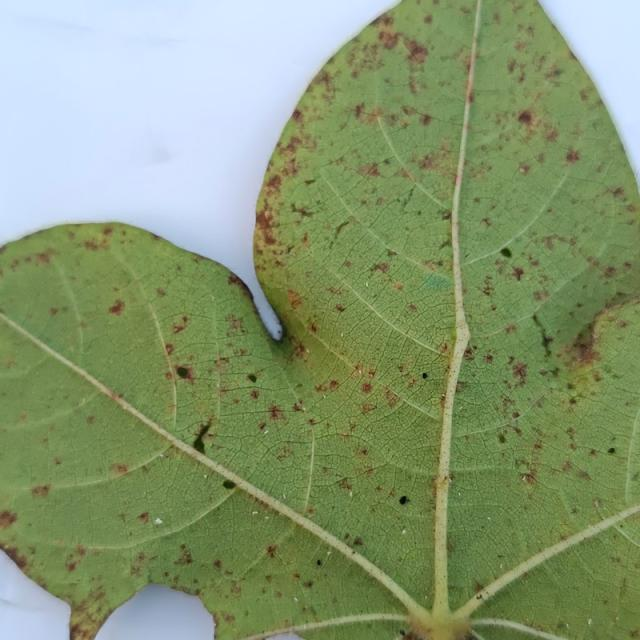Bacterial_Blight: (362, 22, 448, 109), (564, 365, 598, 399), (559, 459, 597, 484), (0, 542, 30, 572), (254, 205, 277, 240), (401, 37, 428, 65), (570, 339, 594, 365), (64, 545, 87, 572), (370, 257, 392, 280), (378, 29, 400, 50), (290, 202, 315, 219), (396, 189, 414, 212), (174, 545, 193, 566), (357, 162, 381, 178), (82, 236, 106, 252), (0, 508, 18, 529), (194, 397, 211, 419), (171, 315, 189, 335), (174, 364, 194, 382), (286, 290, 303, 310), (275, 444, 293, 462), (69, 621, 88, 638), (107, 299, 125, 316), (511, 362, 527, 381), (30, 484, 50, 499), (334, 219, 351, 236), (267, 404, 285, 420), (228, 316, 243, 332), (111, 463, 129, 476), (521, 471, 537, 485), (621, 576, 631, 598), (565, 149, 580, 163), (517, 111, 532, 125), (108, 389, 123, 402), (511, 266, 524, 280), (338, 478, 351, 491), (137, 511, 149, 524), (265, 544, 277, 557), (362, 403, 375, 414), (439, 238, 450, 251), (155, 286, 166, 298), (361, 382, 372, 394), (328, 380, 339, 391), (500, 247, 511, 258), (223, 480, 236, 489), (212, 560, 222, 570), (250, 389, 259, 400), (165, 343, 174, 354), (304, 178, 317, 185), (335, 304, 345, 313), (353, 537, 363, 546), (387, 248, 397, 257), (247, 374, 257, 383), (498, 433, 506, 444), (18, 412, 27, 421), (594, 498, 601, 509), (307, 507, 315, 515), (519, 166, 527, 174), (310, 323, 317, 332), (394, 283, 403, 290), (635, 471, 640, 481), (608, 447, 615, 454)
Cotton: (0, 0, 474, 639), (446, 0, 639, 610), (473, 513, 639, 639)
